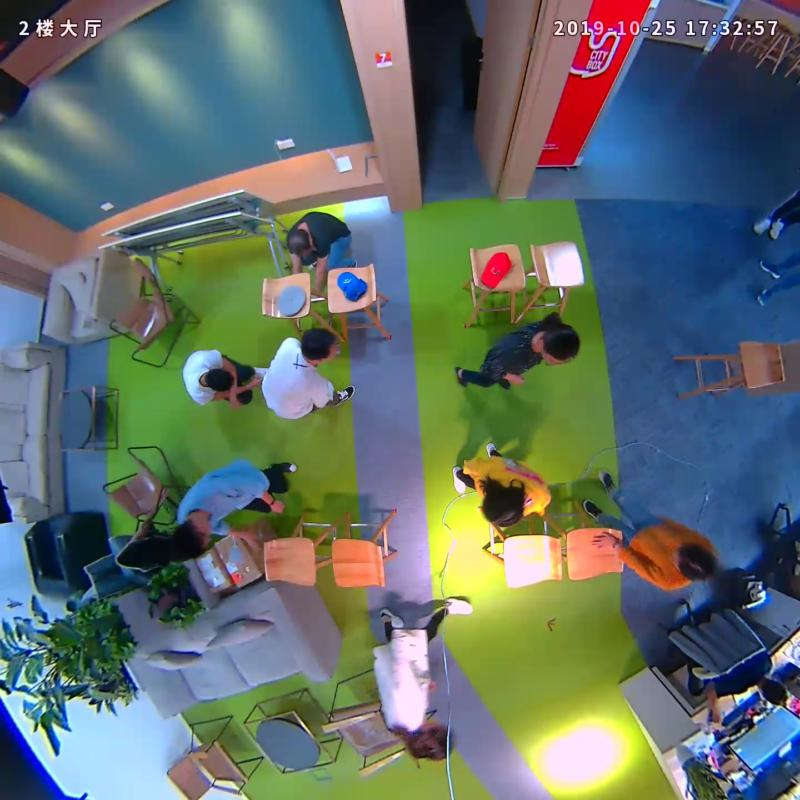head: (395, 719, 471, 771), (471, 477, 532, 535), (522, 318, 586, 369), (162, 513, 219, 566), (664, 539, 717, 590), (296, 323, 341, 370), (201, 365, 241, 397), (282, 226, 319, 260)
